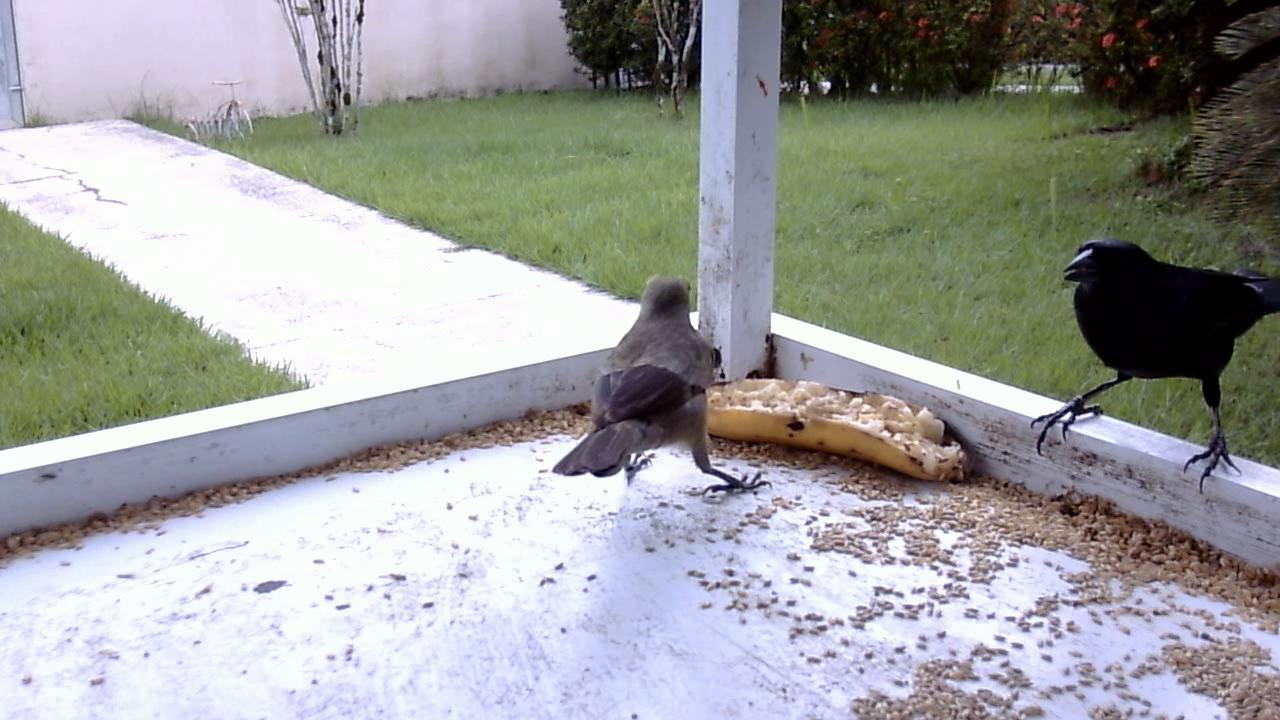chupim: (1029, 223, 1272, 504)
sanhaco_do_coqueiro: (548, 272, 767, 508)
